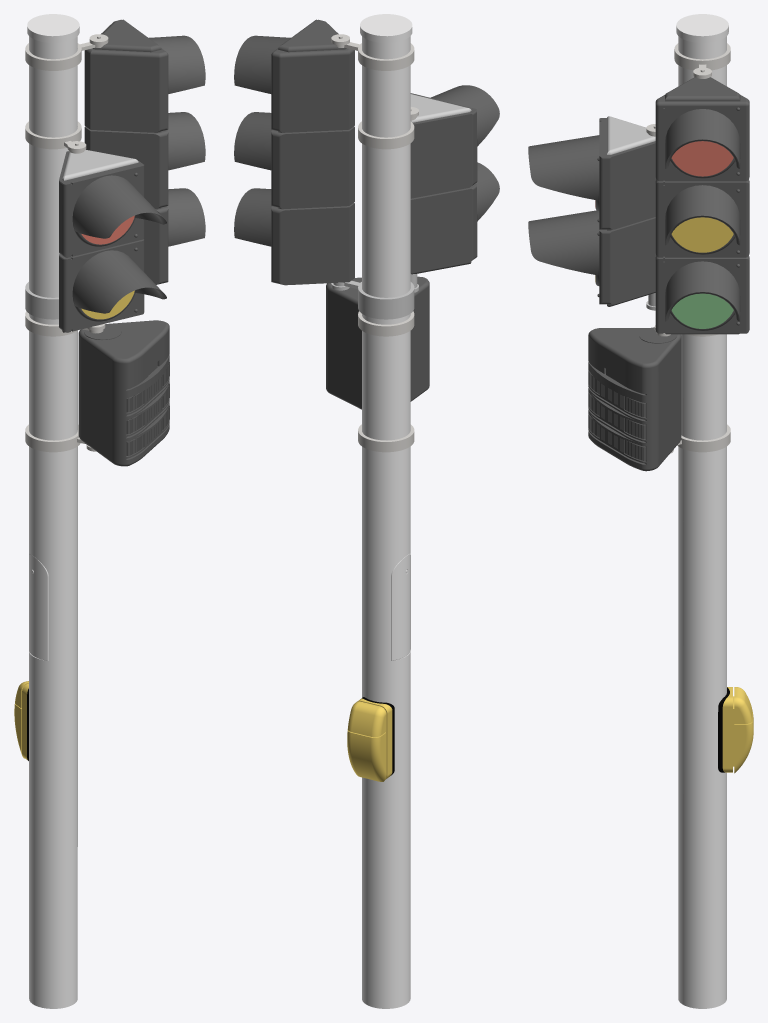
3 renders of one model, left to right at view 1: azimuth 30°, elevation 25°; view 2: azimuth 150°, elevation 25°; view 3: azimuth 270°, elevation 25°, orthographic.
Parts seen in each view (by area): view 1: Body41, Body35, Body239, Body64, Body240, Body39, Body16, Body24, Body238, Body235, Body237, Body36; view 2: Body41, Body35, Body239, Body64, Body238, Body240, Body16, Body36, Body39, Body24, Body235, Body237 (+1 smaller); view 3: Body41, Body35, Body239, Body64, Body238, Body244, Body245, Body243, Body39, Body16, Body235.
Boxes of the visible parts, left/top/right/bottom form: Body41: left=27, top=14, right=79, bottom=1008; Body35: left=84, top=19, right=205, bottom=284; Body239: left=59, top=151, right=166, bottom=332; Body64: left=78, top=320, right=169, bottom=466; Body240: left=29, top=553, right=48, bottom=660; Body39: left=62, top=150, right=138, bottom=180; Body16: left=25, top=34, right=108, bottom=70; Body24: left=25, top=121, right=86, bottom=153; Body238: left=14, top=681, right=28, bottom=759; Body235: left=25, top=424, right=96, bottom=452; Body237: left=25, top=311, right=105, bottom=336; Body36: left=25, top=282, right=58, bottom=309; Body41: left=360, top=14, right=412, bottom=1008; Body35: left=234, top=19, right=354, bottom=285; Body239: left=410, top=85, right=499, bottom=274; Body64: left=326, top=276, right=429, bottom=409; Body238: left=347, top=698, right=392, bottom=781; Body240: left=391, top=554, right=410, bottom=660; Body16: left=331, top=34, right=414, bottom=70; Body36: left=331, top=280, right=414, bottom=309; Body39: left=410, top=94, right=471, bottom=122; Body24: left=358, top=107, right=418, bottom=149; Body235: left=358, top=424, right=414, bottom=452; Body237: left=358, top=311, right=414, bottom=336; Body41: left=676, top=14, right=728, bottom=1008; Body35: left=655, top=77, right=749, bottom=334; Body239: left=528, top=118, right=656, bottom=306; Body64: left=588, top=327, right=681, bottom=471; Body238: left=722, top=687, right=753, bottom=773; Body244: left=671, top=217, right=733, bottom=252; Body245: left=671, top=141, right=733, bottom=176; Body243: left=671, top=293, right=733, bottom=328; Body39: left=607, top=116, right=655, bottom=154; Body16: left=674, top=43, right=730, bottom=78; Body235: left=670, top=424, right=730, bottom=453.
Bounding box in the file's own units: 54.99 × 286 × 60.
